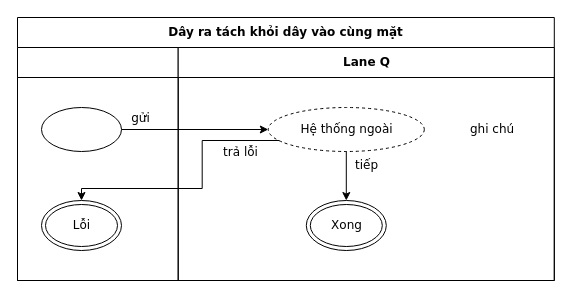
Image size: 572x298. Some labels were removed from this diagram. The shapes that lost their labels are listed below. From the top down, each one's box as (x1, y1, x2, y2) in pixels, then its label:
(40, 106, 122, 152): Vào
(16, 46, 178, 280): Lane P
